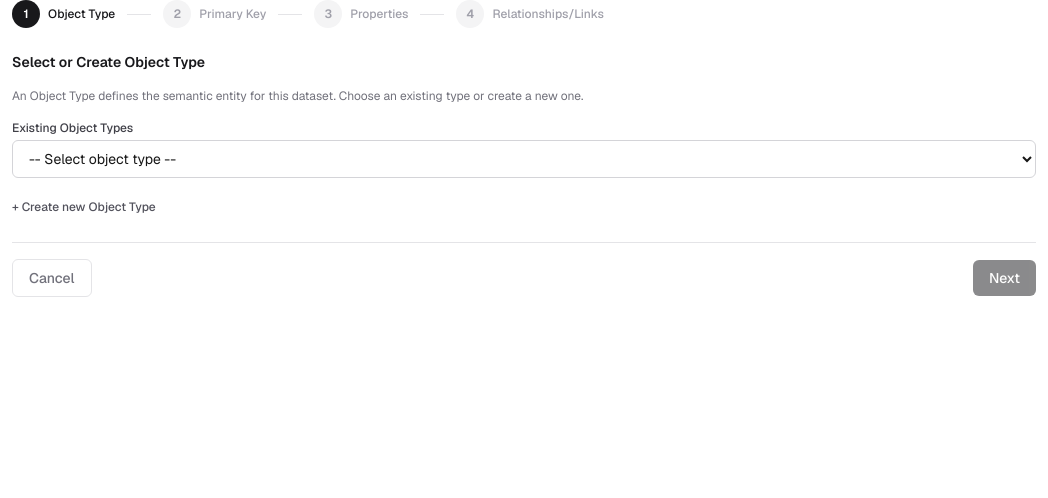
EntityMappingWizard › Step 1: Object Type › moves to step 2 when Next is clicked after selection
The width and height of the screenshot is (1048, 498).
Expected: the heading "Select or Create Object Type" is shown, [12,53,205,71]
Step 1. Select "Employee (employee)" in the dropdown → (524, 159), box [12,140,1036,178]
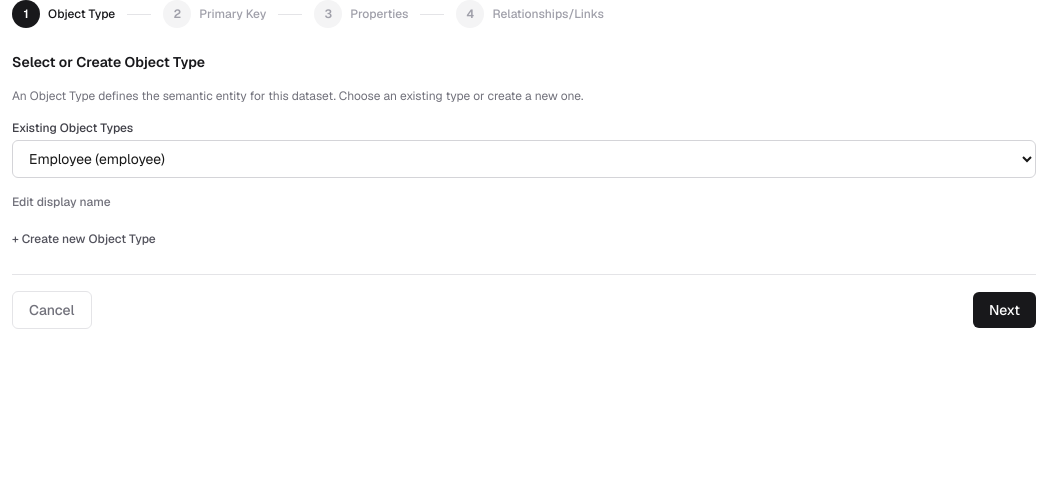
Step 2. Click the button "Next" → click(1004, 310), box [973,292,1036,328]
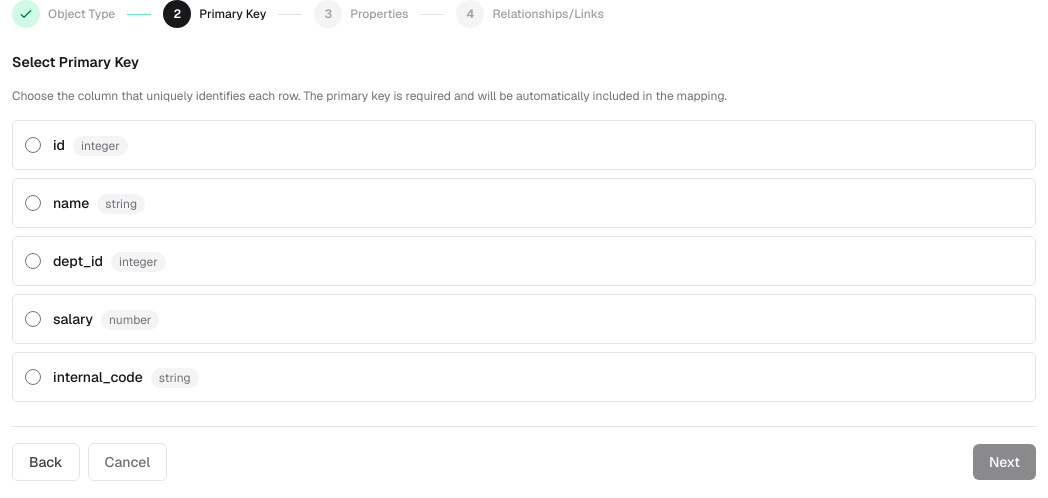
Result: the heading "Select Primary Key" is shown at [12,53,139,71]
